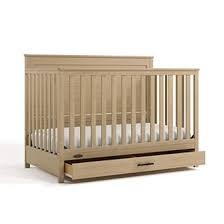crib: (24, 54, 205, 184)
